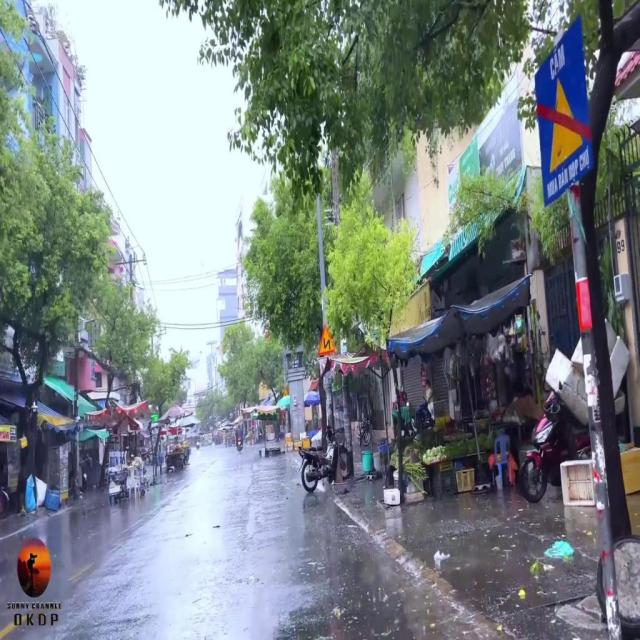cho_ngoat_nguy_hiem_lien_tiep: (319, 324, 336, 354)
